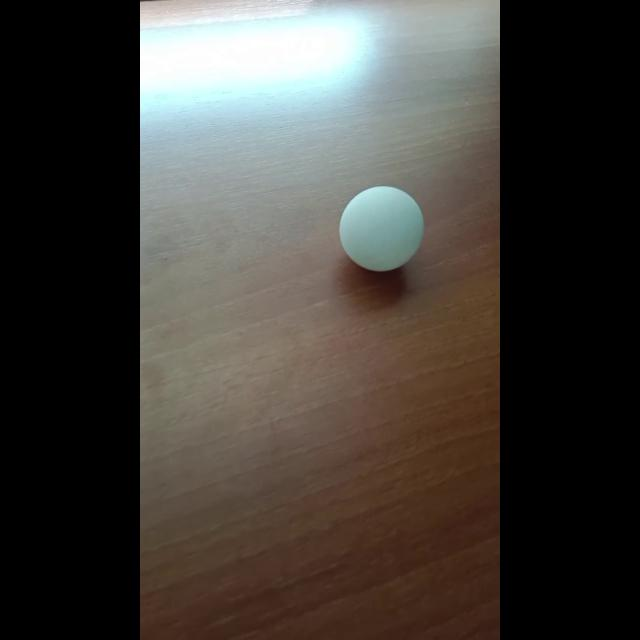white ball: (338, 184, 424, 272)
